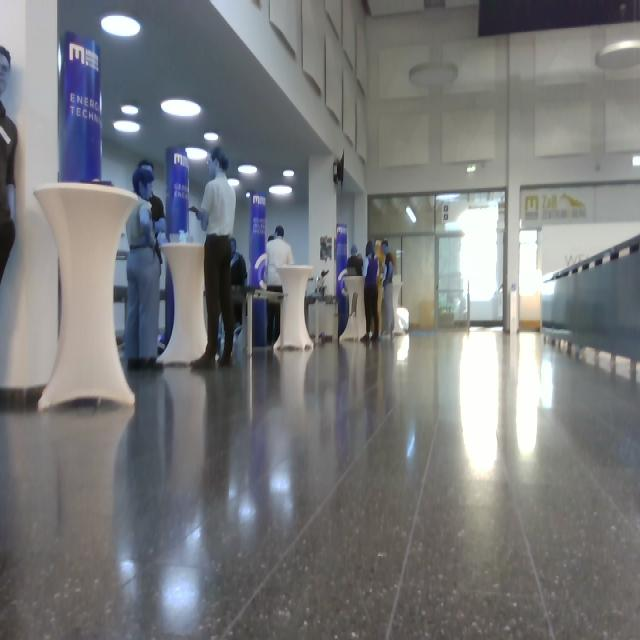door: (402, 235, 436, 331)
light bulb: (595, 39, 640, 71), (409, 61, 458, 88), (101, 13, 141, 38), (161, 98, 202, 117), (113, 120, 141, 133), (186, 146, 208, 161), (269, 185, 293, 196), (406, 205, 417, 224), (121, 105, 139, 116), (238, 165, 258, 174), (204, 132, 219, 141), (283, 169, 295, 178)
person: (189, 146, 237, 369), (125, 165, 165, 372), (1, 46, 19, 285), (266, 225, 295, 348), (361, 240, 382, 341)
pillar: (33, 181, 140, 412)
staircase: (540, 233, 640, 381)
tiled floor: (2, 325, 639, 638)
